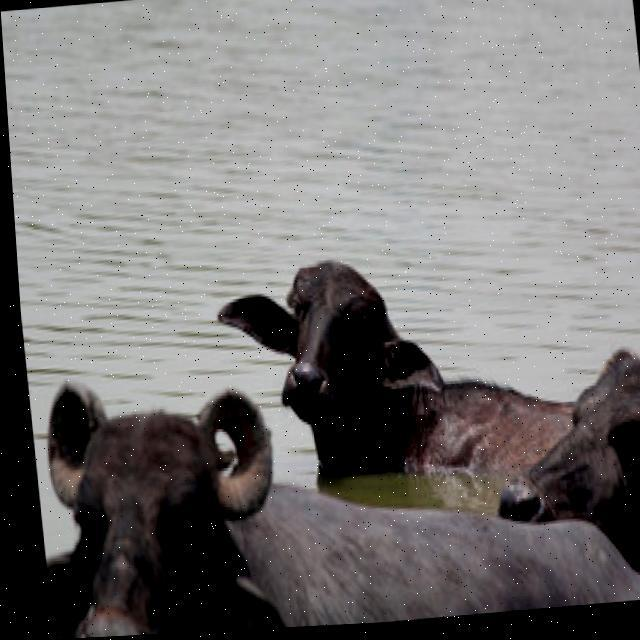Buffalo: (26, 336, 604, 640)
